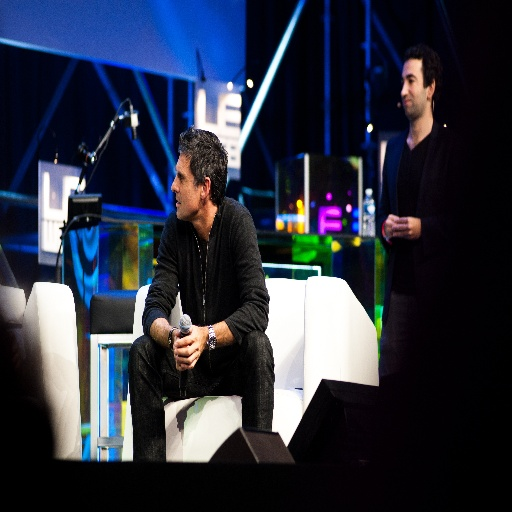hand: (173, 325, 205, 370), (392, 217, 421, 241), (384, 214, 397, 241)
